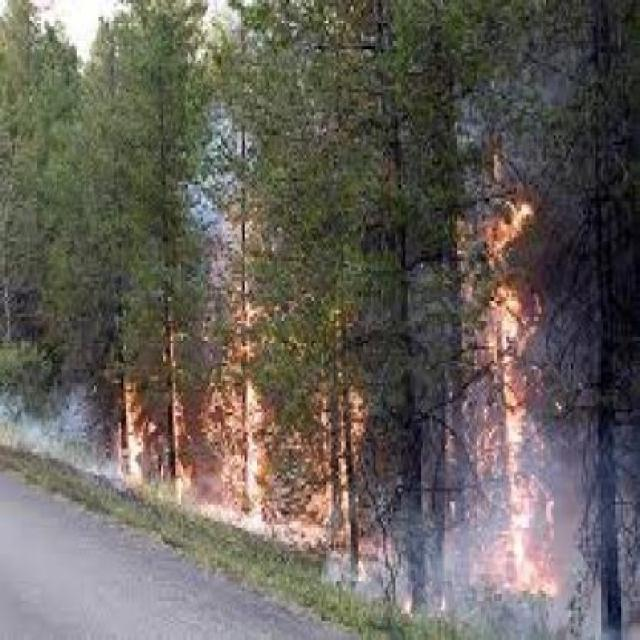Fire: (54, 310, 404, 593), (459, 131, 595, 640)
